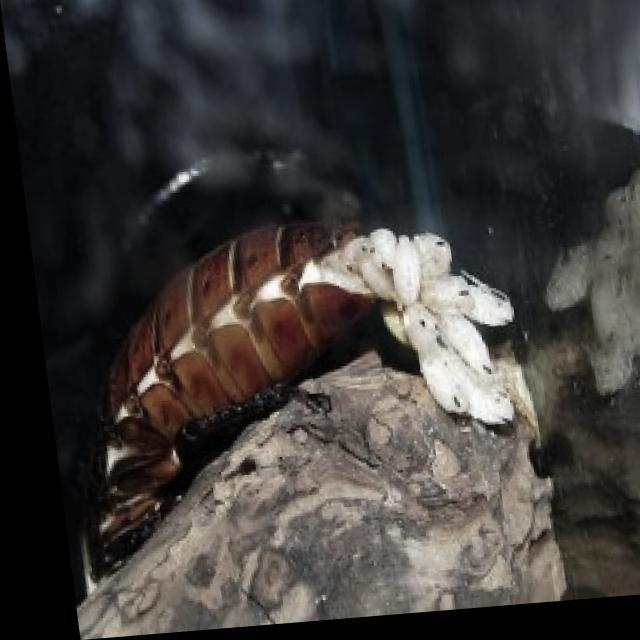cockroach: (84, 214, 532, 573)
